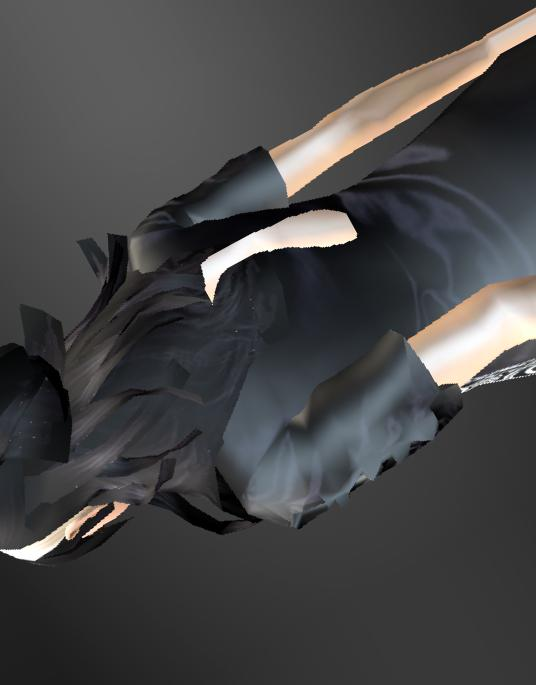clip: (188, 249, 257, 299)
